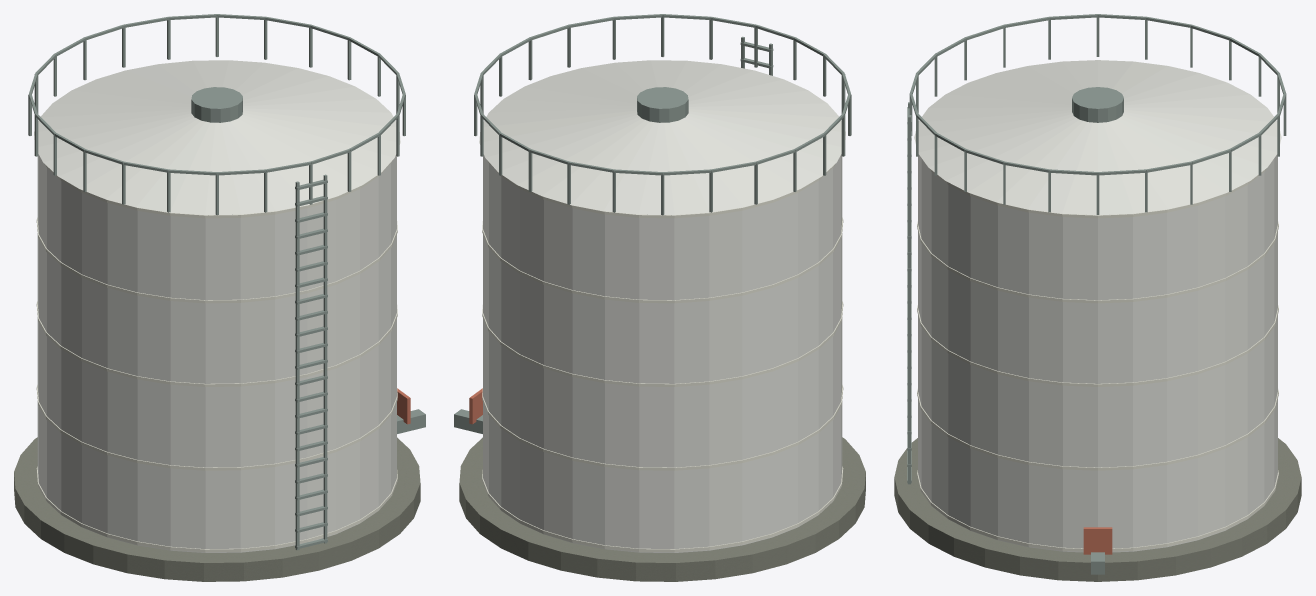
The model's file is fuel_tank.glb.
The picture shows the model from 3 angles, left to right: view 1: azimuth 30°, elevation 25°; view 2: azimuth 150°, elevation 25°; view 3: azimuth 270°, elevation 25°; orthographic projection.
Visible parts, largest first — view 1: fuel_tank; view 2: fuel_tank; view 3: fuel_tank.
Part boxes in pixels (x1,y1,x2,y2): fuel_tank: [14, 14, 425, 581]; fuel_tank: [454, 14, 865, 581]; fuel_tank: [894, 14, 1301, 581].
Size of the model in its own units: 9.3 by 9.38 by 8.6.
5 materials, 1 textured.
